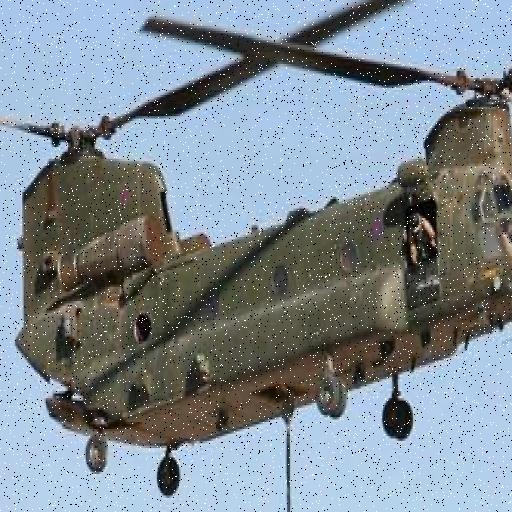helicopter: (1, 1, 512, 473)
